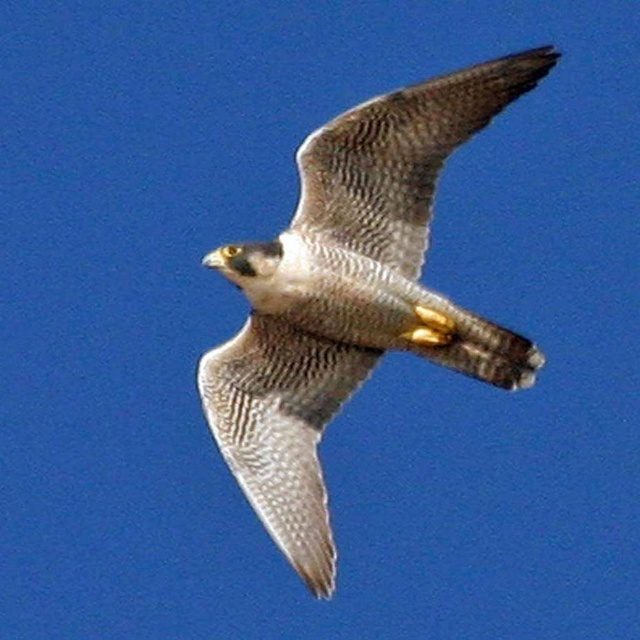Eagle: (189, 43, 561, 602)
